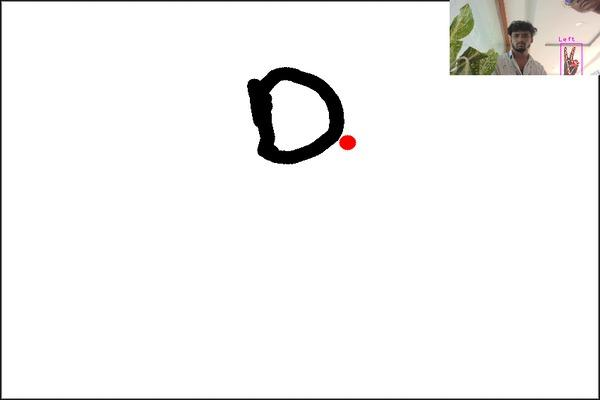D: (239, 61, 353, 167)
